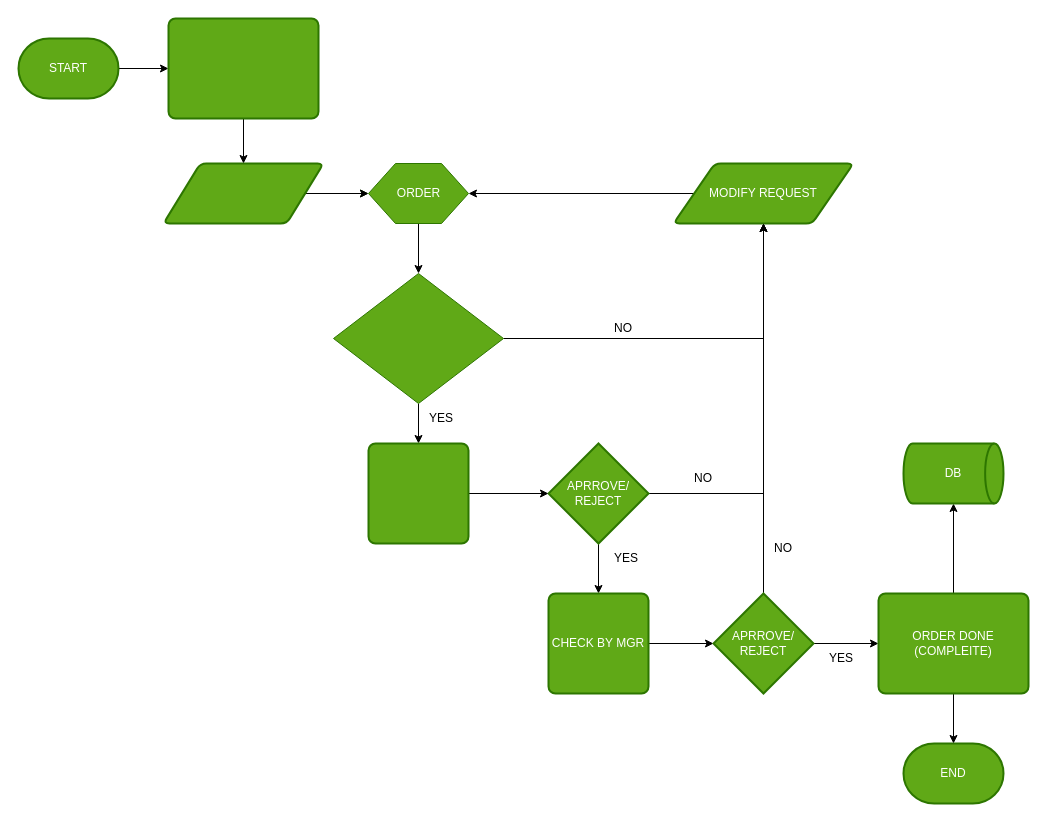
This 1046x821 diagram has some shape labels left out. The centre of each missing label's shape, as x and y in pixels:
"CHECK BY SPV" belongs at pixel 418 493.
"PURCHASER PREPARE DOC" belongs at pixel 243 68.
"UPLOAD REQUEST" belongs at pixel 243 193.
"VALIDASIUSER, VALIDASI TAG, VALIDASI QUANTITY" belongs at pixel 418 338.
